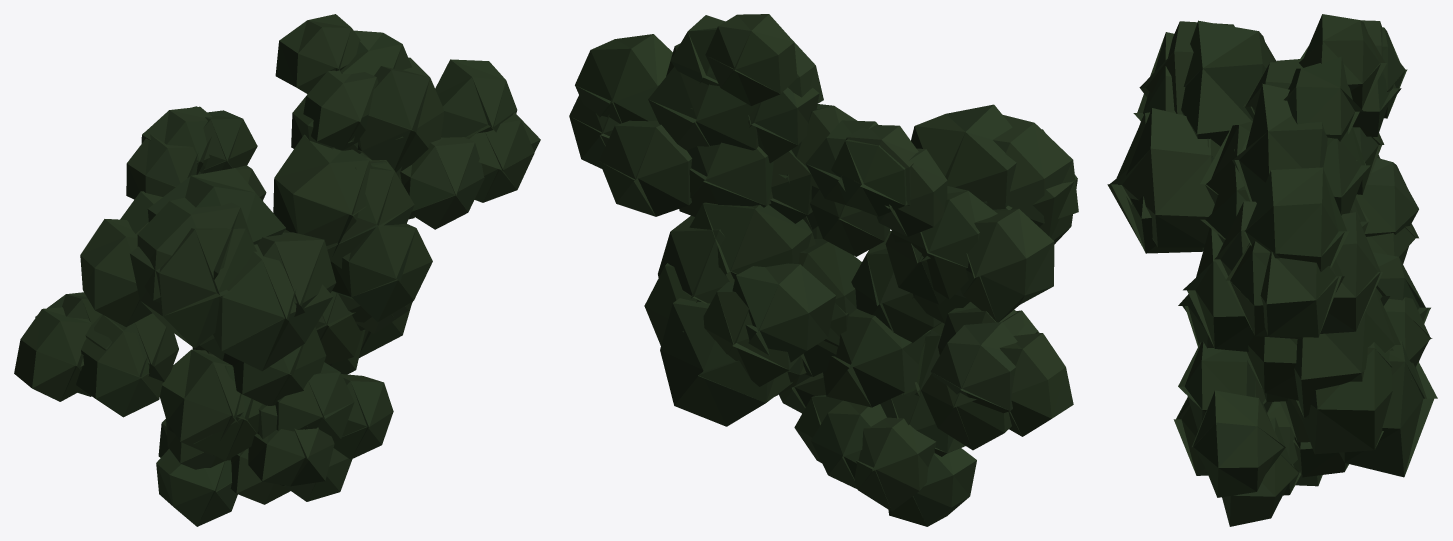
File: tree_m15_far.obj
3 views of the same model, side by side, from view 1: azimuth 30°, elevation 25°; view 2: azimuth 150°, elevation 25°; view 3: azimuth 270°, elevation 25° (orthographic). The views are drawn at different scales.
Bounding box in the file's own units: 1.79 × 1.59 × 0.8755.
Materials: 1 (1 with a texture image).
